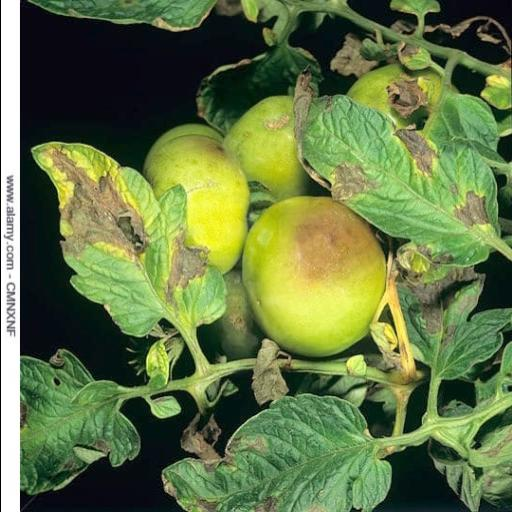Early Blight: (291, 70, 501, 270), (30, 141, 228, 337)
